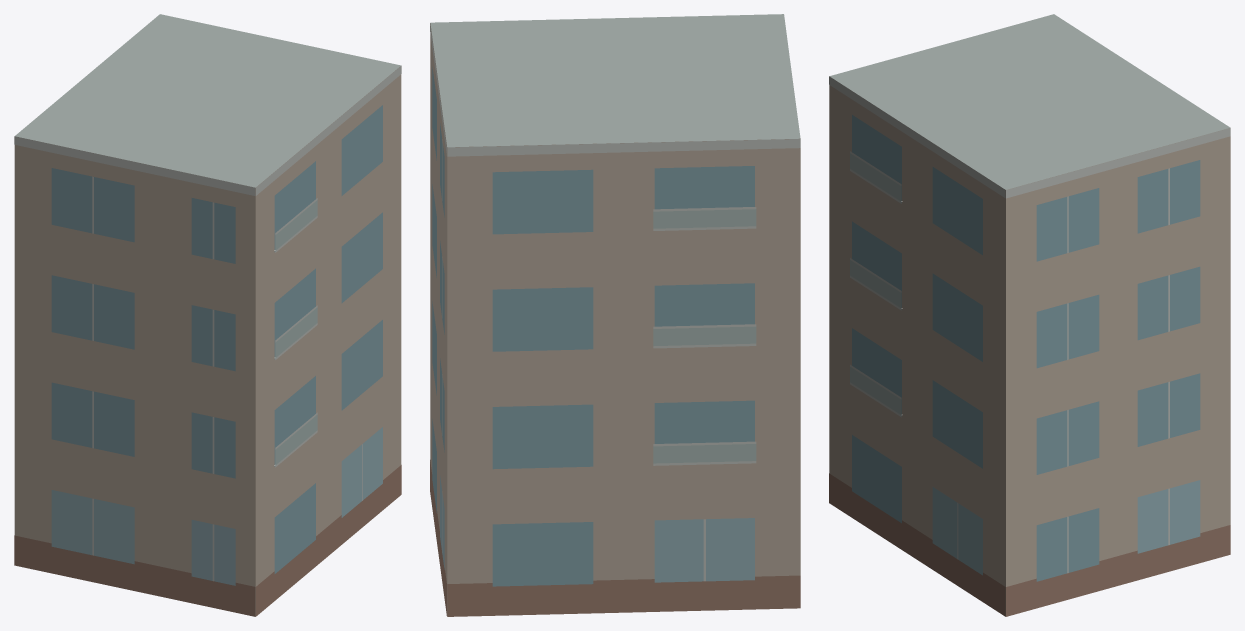
File: residential-a345bc48-989e-41a7-8794-79b554599098.glb
3 views of the same model, side by side, from view 1: azimuth 30°, elevation 25°; view 2: azimuth 150°, elevation 25°; view 3: azimuth 270°, elevation 25° (orthographic). The views are drawn at different scales.
Visible parts, largest first — view 1: residential-a345bc48-989e-41a7-8794-79b554599098.tmp; view 2: residential-a345bc48-989e-41a7-8794-79b554599098.tmp; view 3: residential-a345bc48-989e-41a7-8794-79b554599098.tmp.
Boxes of the visible parts, left/top/right/bottom form: residential-a345bc48-989e-41a7-8794-79b554599098.tmp: left=14, top=14, right=401, bottom=616; residential-a345bc48-989e-41a7-8794-79b554599098.tmp: left=430, top=14, right=800, bottom=616; residential-a345bc48-989e-41a7-8794-79b554599098.tmp: left=829, top=14, right=1230, bottom=616.
Size of the model in its own units: 10.8 by 12.2 by 10.41.
